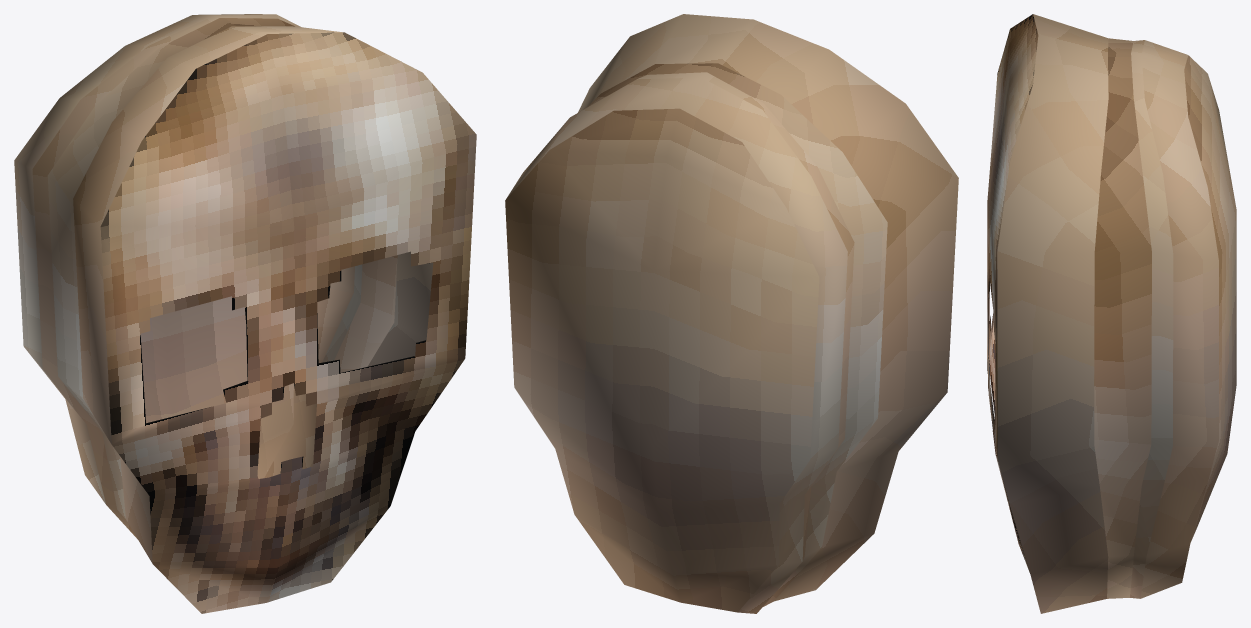
Rendered from Skull Guy.glb.
3 views of the same model, side by side, from view 1: azimuth 30°, elevation 25°; view 2: azimuth 150°, elevation 25°; view 3: azimuth 270°, elevation 25° (orthographic). The views are drawn at different scales.
Visible parts, largest first — view 1: Skull; view 2: Skull; view 3: Skull.
Part boxes in pixels (x1,y1,x2,y2): Skull: (14,14,476,613); Skull: (505,14,958,613); Skull: (987,14,1236,613).
Size of the model in its own units: 2.54 by 3.67 by 1.5.
Materials: 1 (1 with a texture image).
